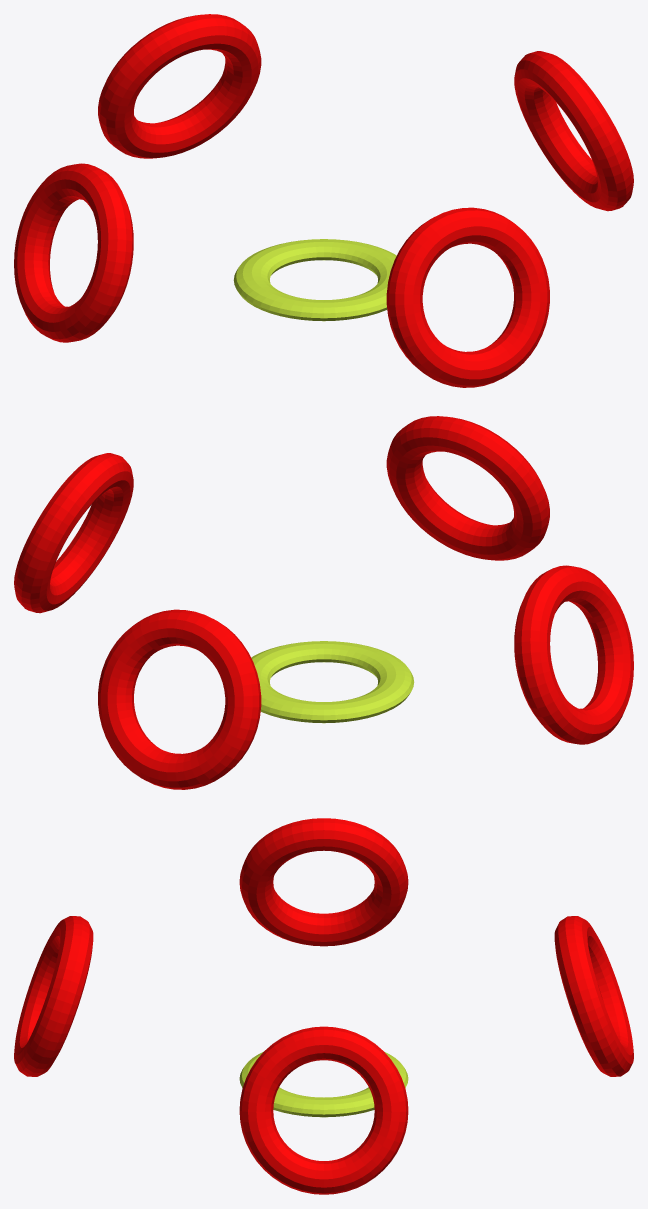
File: orbit_20_4.glb
The picture shows the model from 3 angles, top to bottom: view 1: azimuth 30°, elevation 25°; view 2: azimuth 150°, elevation 25°; view 3: azimuth 270°, elevation 25°; orthographic projection. The views are drawn at different scales.
Visible parts, largest first — view 1: Torus.012, Torus.013, Torus.010, Torus.011, Torus; view 2: Torus.013, Torus.012, Torus.010, Torus.011, Torus; view 3: Torus.011, Torus.010, Torus.013, Torus.012, Torus.
Boxes of the visible parts, left/top/right/bottom form: Torus.012: left=386, top=207, right=549, bottom=387; Torus.013: left=98, top=14, right=261, bottom=158; Torus.010: left=14, top=163, right=133, bottom=342; Torus.011: left=514, top=51, right=633, bottom=211; Torus: left=233, top=239, right=396, bottom=321; Torus.013: left=98, top=609, right=261, bottom=789; Torus.012: left=386, top=416, right=549, bottom=560; Torus.010: left=514, top=565, right=633, bottom=744; Torus.011: left=14, top=453, right=133, bottom=613; Torus: left=251, top=641, right=414, bottom=723; Torus.011: left=239, top=1026, right=408, bottom=1194; Torus.010: left=239, top=818, right=408, bottom=946; Torus.013: left=554, top=916, right=633, bottom=1076; Torus.012: left=14, top=916, right=93, bottom=1076; Torus: left=239, top=1052, right=408, bottom=1117.
Bounding box in the file's own units: 2.29 × 0.6625 × 2.29.
5 materials, 4 textured.
